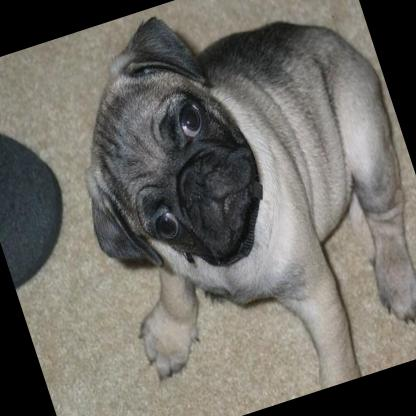pug: (33, 0, 416, 416)
